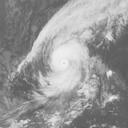cyclone: (38, 39, 91, 98)
